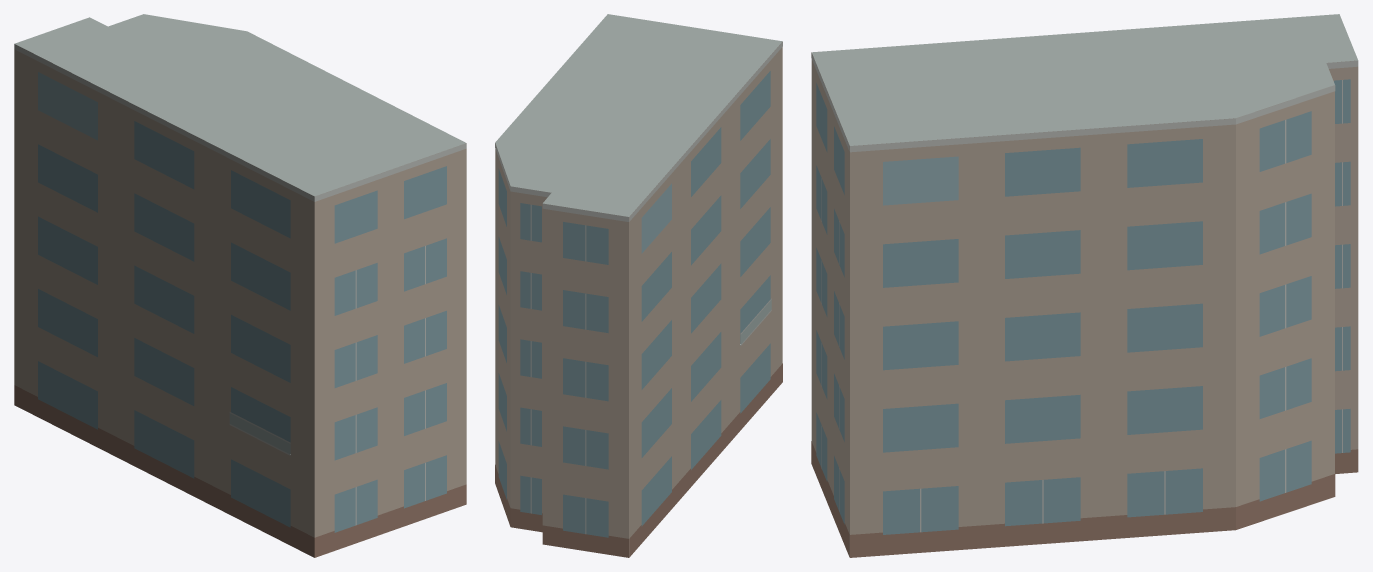
The model's file is survey-upis-32640288.glb.
3 renders of one model, left to right at view 1: azimuth 30°, elevation 25°; view 2: azimuth 150°, elevation 25°; view 3: azimuth 270°, elevation 25°, orthographic. The views are drawn at different scales.
Visible parts, largest first — view 1: survey-upis-32640288.tmp; view 2: survey-upis-32640288.tmp; view 3: survey-upis-32640288.tmp.
Part boxes in pixels (box(x1,y1,x2,y2)): survey-upis-32640288.tmp: box(14, 14, 466, 557); survey-upis-32640288.tmp: box(495, 14, 782, 557); survey-upis-32640288.tmp: box(811, 14, 1358, 557).
Bounding box in the file's own units: 11.08 × 16.1 × 19.38.
